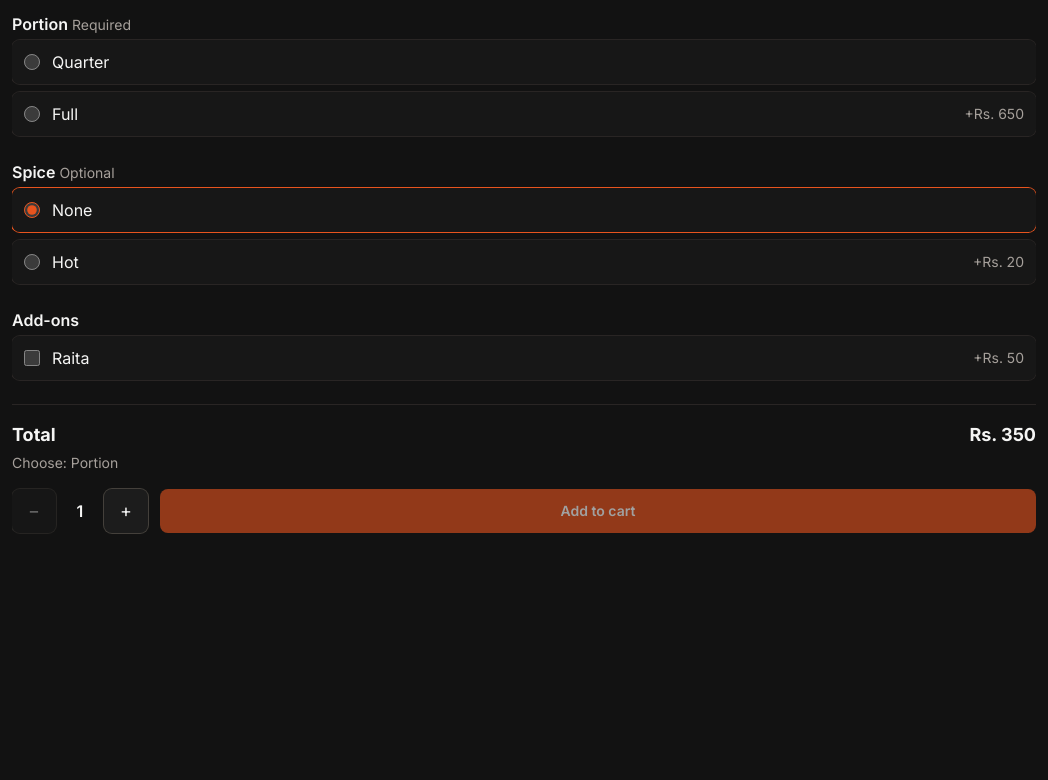
Test: ProductOptions › updates the total for variants and add-ons
Expected: the text "Rs. 350" is shown, [969,421,1036,449]
Click the radio button labelled "Full +Rs. 650": (32, 114) [24,106,40,122]
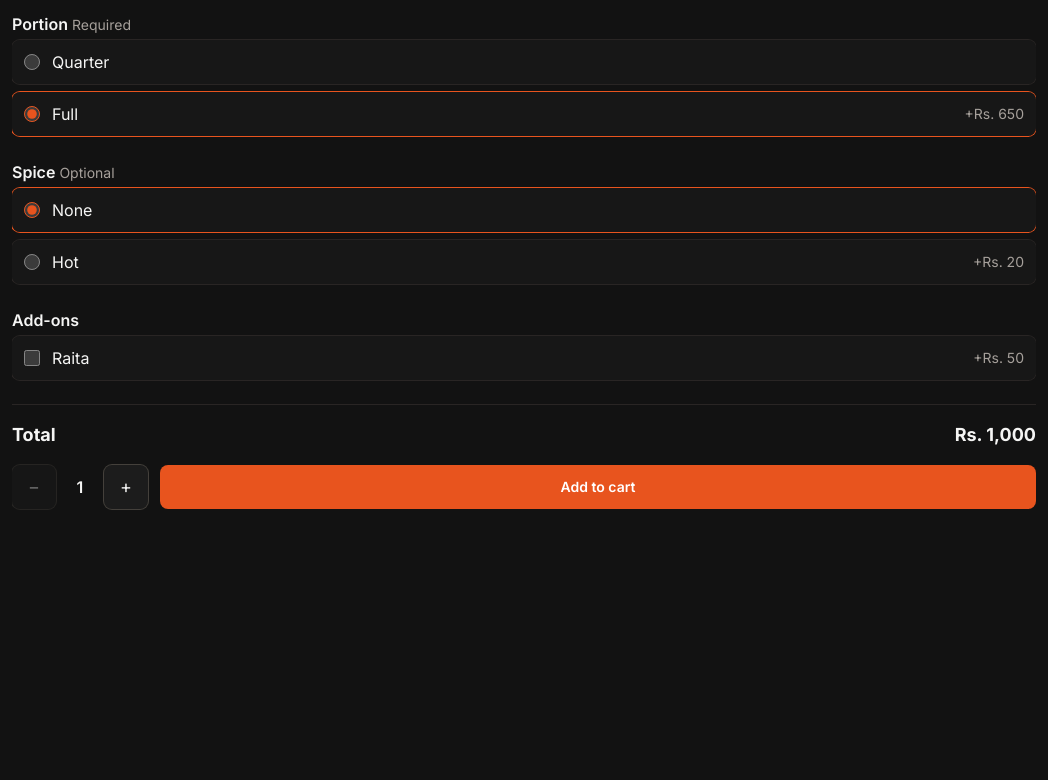
Click the checkbox labelled "Raita +Rs. 50": (32, 358) [24,350,40,366]
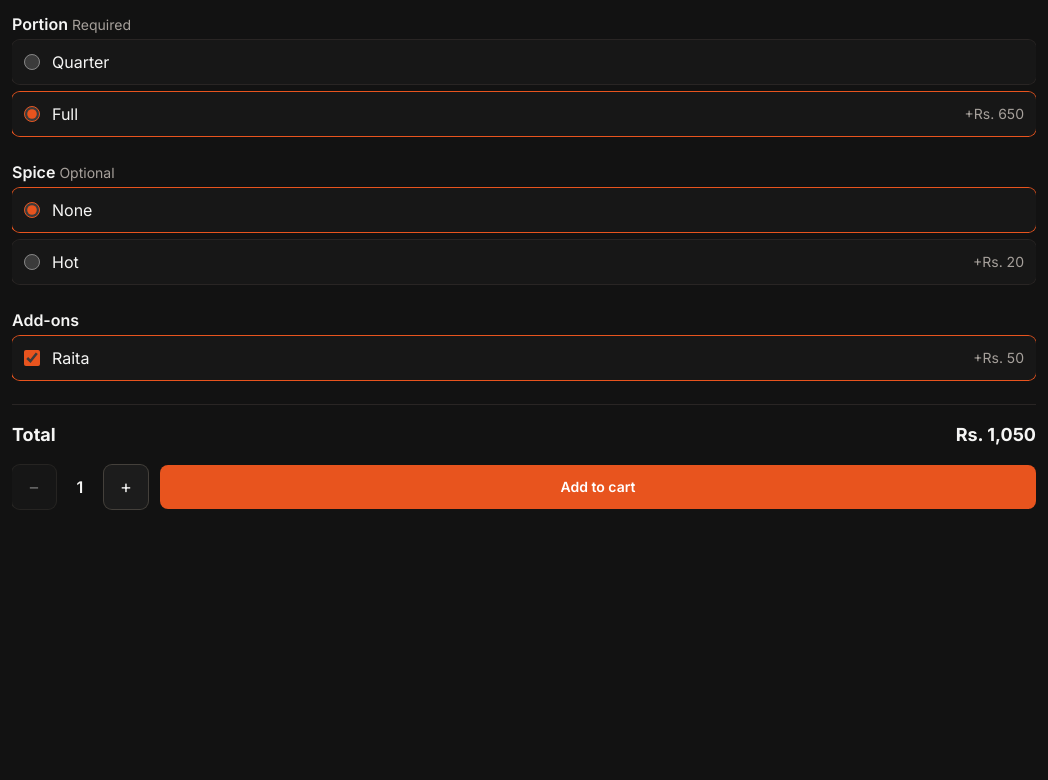
Now the text "Rs. 1,050" is shown, box [956,421,1036,449]
Click the checkbox labelled "Raita +Rs. 50": (32, 358) [24,350,40,366]
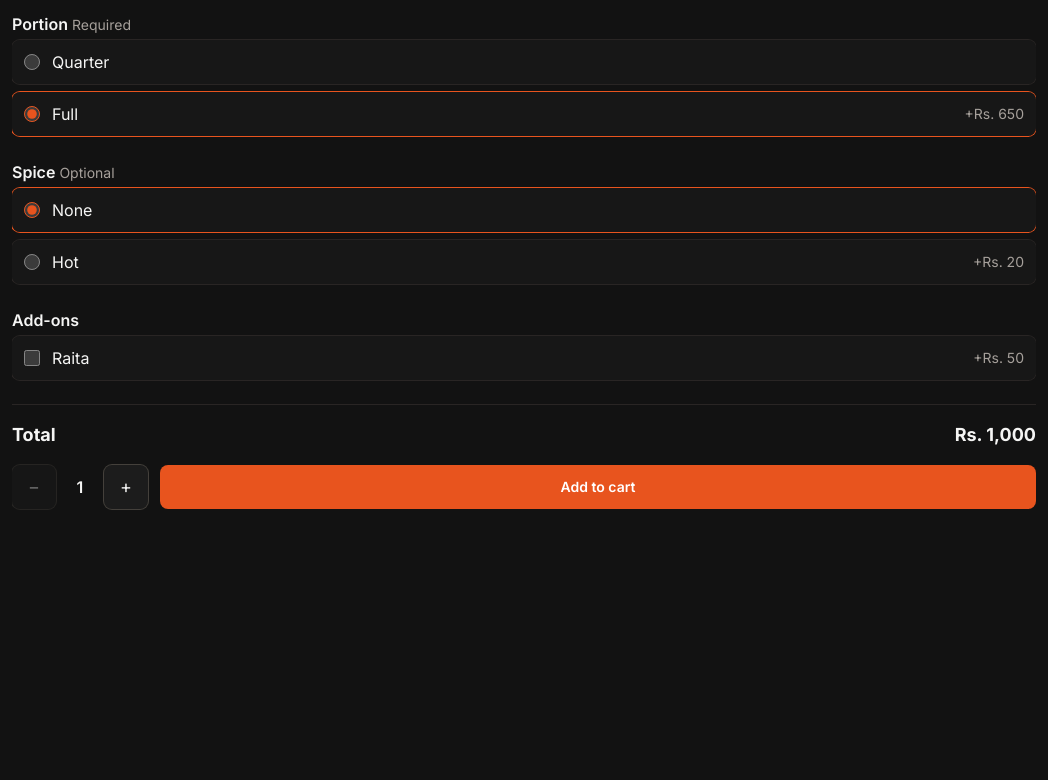
Now the text "Rs. 1,000" is shown, box [955,421,1036,449]
